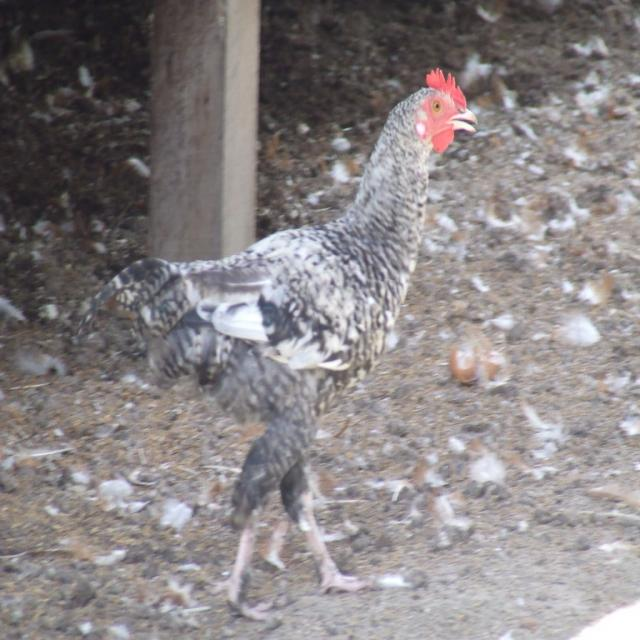Chicken: (96, 51, 494, 598)
